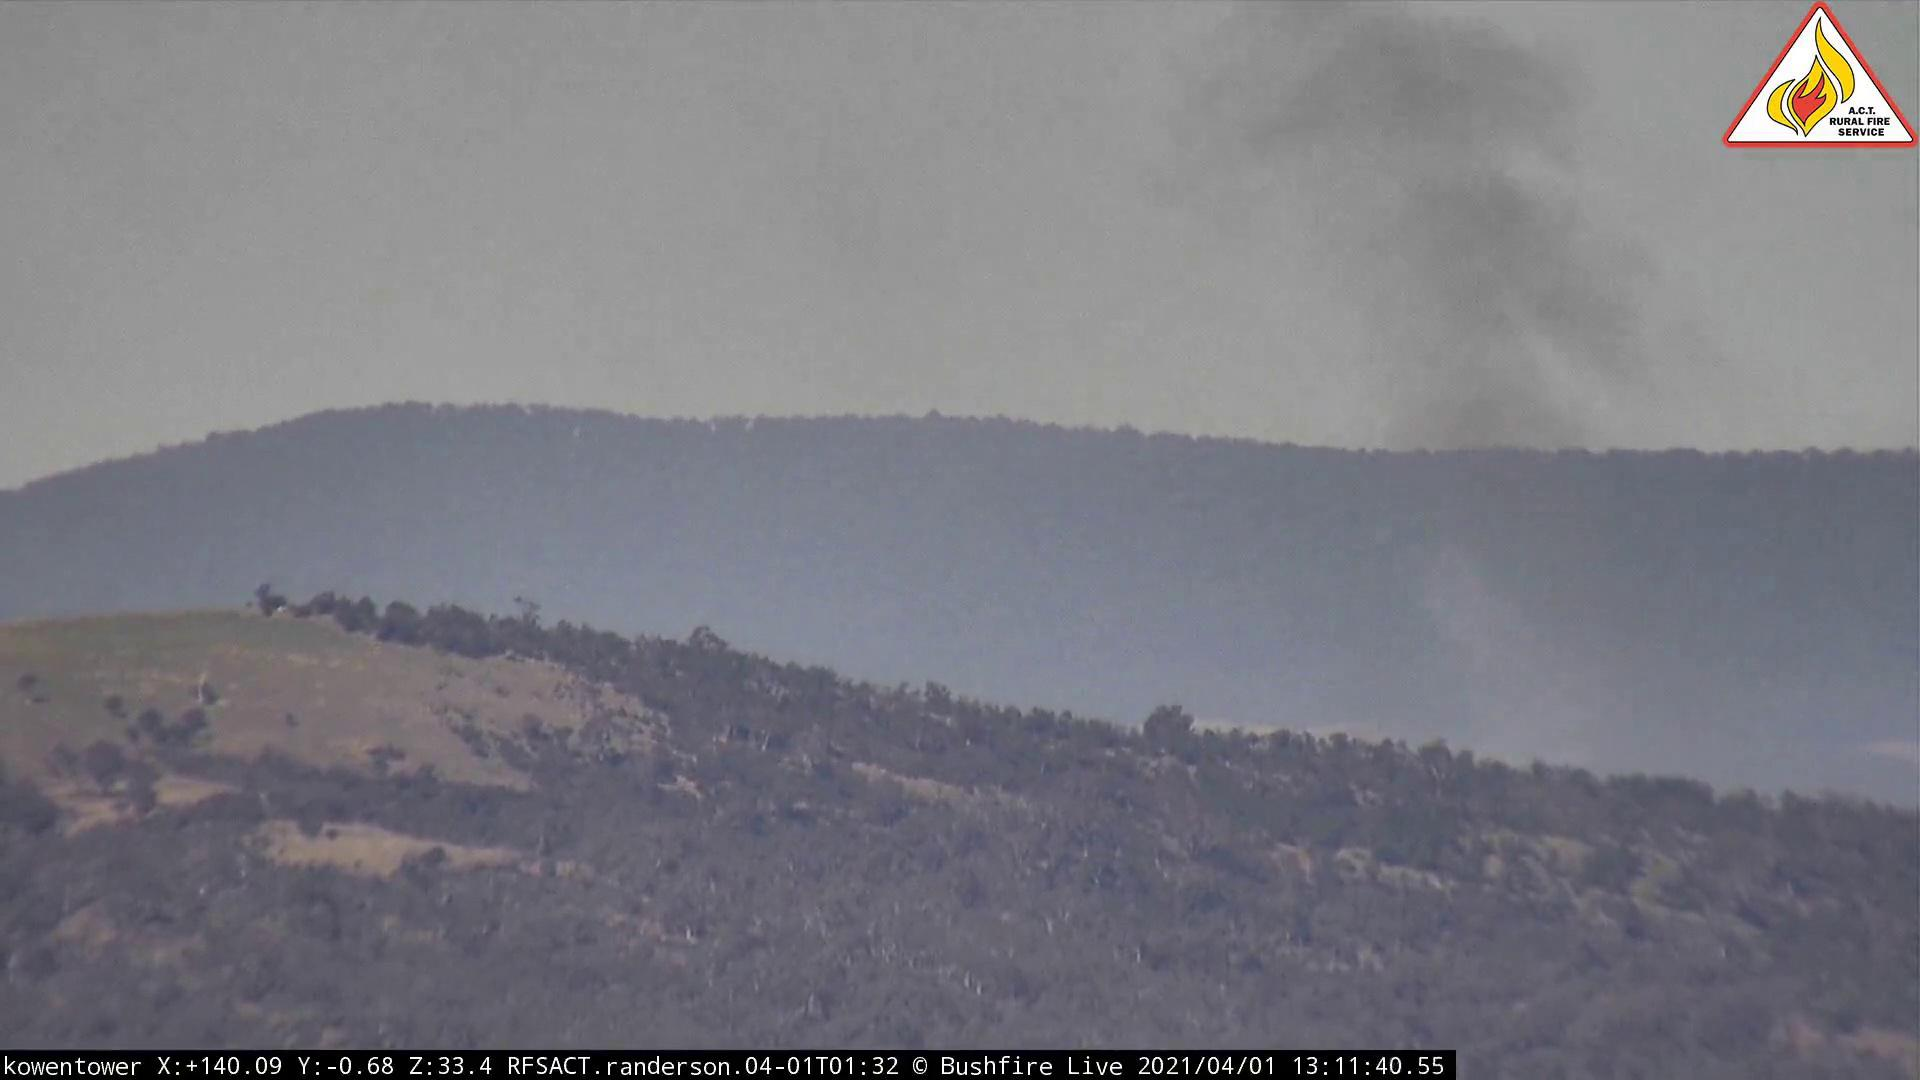instance_salient_object: (1098, 3, 1687, 752)
